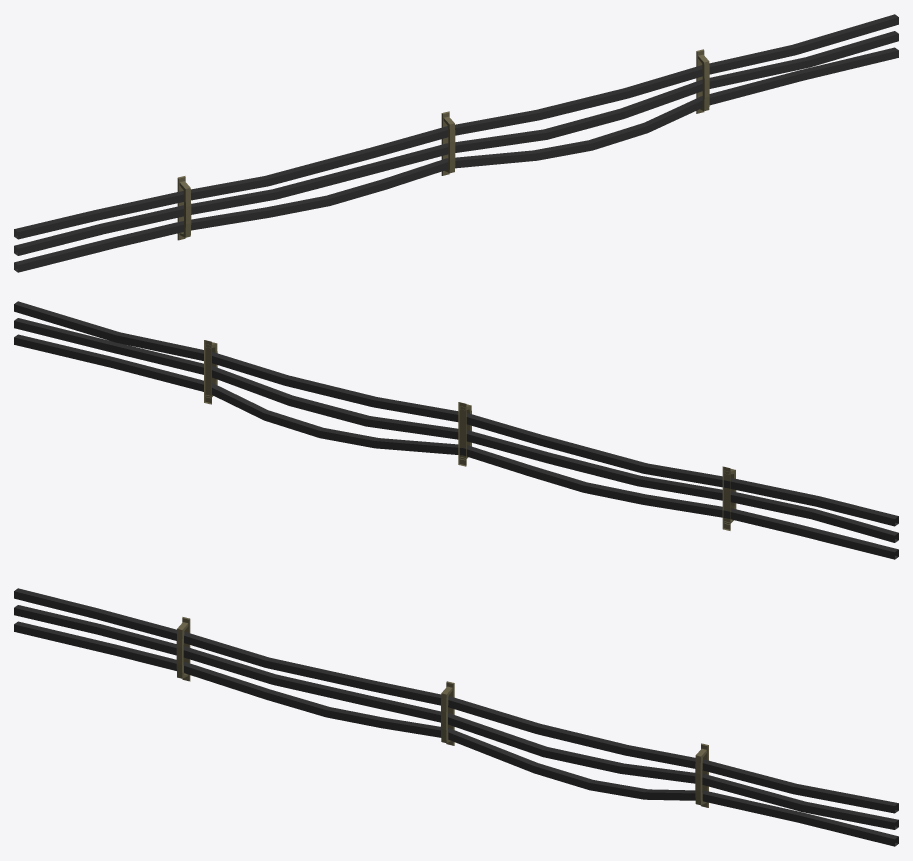
The model's file is SW_ENV_Wires3_StationWall_05_05m.fbx.
The picture shows the model from 3 angles, top to bottom: view 1: azimuth 30°, elevation 25°; view 2: azimuth 150°, elevation 25°; view 3: azimuth 330°, elevation 25°; orthographic projection.
Visible parts, largest first — view 1: SW_ENV_Wires3_StationWall_05_05m; view 2: SW_ENV_Wires3_StationWall_05_05m; view 3: SW_ENV_Wires3_StationWall_05_05m.
Boxes of the visible parts, bbox=[...] form: SW_ENV_Wires3_StationWall_05_05m: bbox=[14, 14, 898, 272]; SW_ENV_Wires3_StationWall_05_05m: bbox=[14, 301, 898, 559]; SW_ENV_Wires3_StationWall_05_05m: bbox=[14, 588, 898, 846].
Size of the model in its own units: 500 by 38.06 by 7.06.
